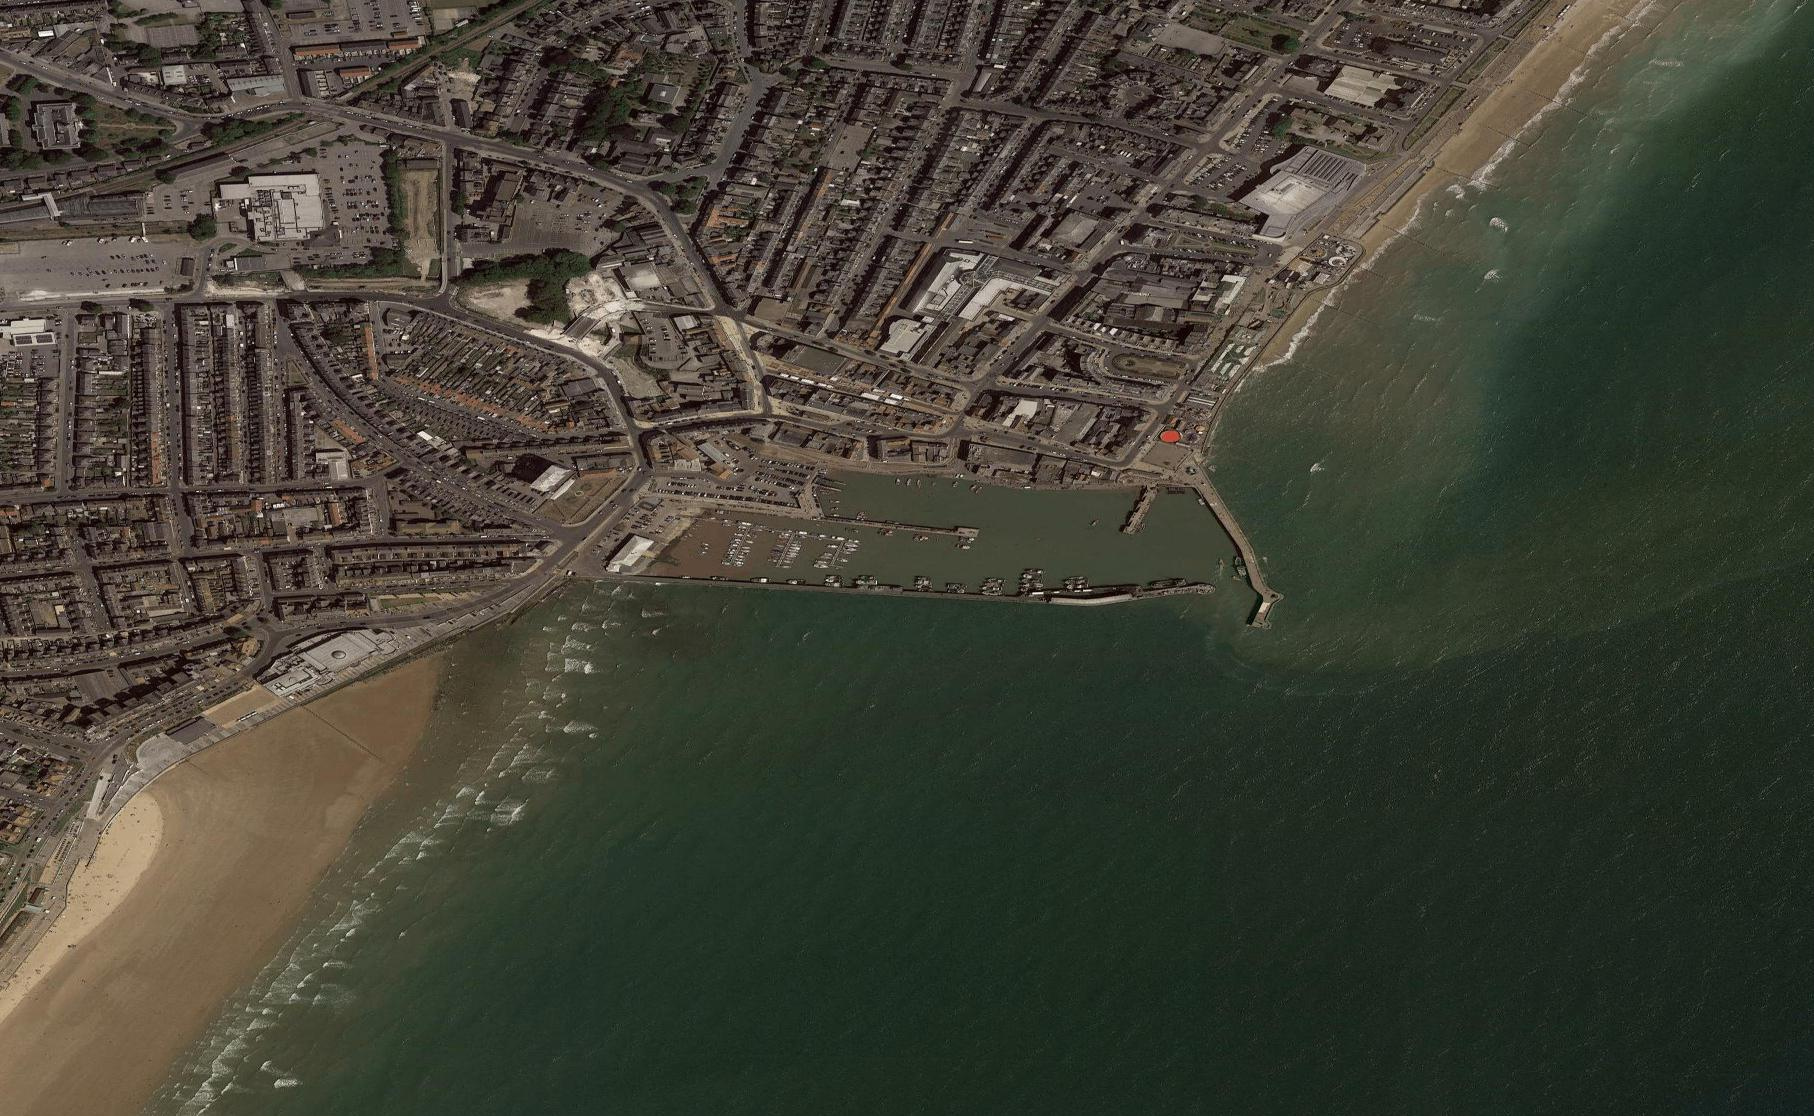harbor: (608, 406, 1278, 680)
